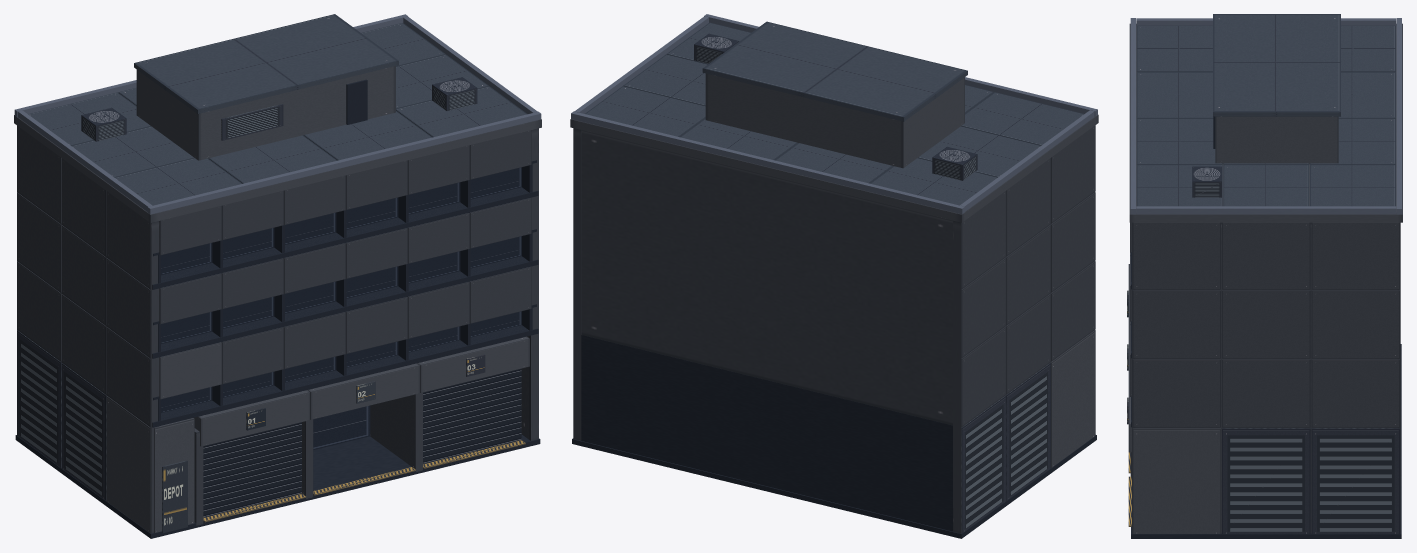
Rendered from depot_middle.glb.
3 views of the same model, side by side, from view 1: azimuth 30°, elevation 25°; view 2: azimuth 150°, elevation 25°; view 3: azimuth 270°, elevation 25° (orthographic).
Visible parts, largest first — view 1: Architecture, Shutter_1, Shutter_3, Bay_2_Interior, Window_03_04, Window_02_04, Window_02_05, Window_03_05, Window_02_03, Window_02_06, Window_02_02, Window_03_03 (+10 smaller); view 2: Architecture; view 3: Architecture.
Boxes of the visible parts, left/top/right/bottom form: Architecture: left=14, top=14, right=541, bottom=538; Shutter_1: left=203, top=422, right=301, bottom=517; Shutter_3: left=423, top=368, right=521, bottom=463; Bay_2_Interior: left=313, top=405, right=370, bottom=449; Window_03_04: left=346, top=197, right=398, bottom=229; Window_02_04: left=346, top=266, right=398, bottom=298; Window_02_05: left=408, top=251, right=460, bottom=283; Window_03_05: left=408, top=182, right=460, bottom=214; Window_02_03: left=285, top=281, right=336, bottom=313; Window_02_06: left=470, top=236, right=521, bottom=268; Window_02_02: left=223, top=296, right=274, bottom=328; Window_03_03: left=285, top=212, right=336, bottom=244; Architecture: left=570, top=14, right=1098, bottom=538; Architecture: left=1127, top=14, right=1402, bottom=538.
Size of the model in its own units: 15.16 by 13.98 by 9.25.
1 material, 1 textured.
